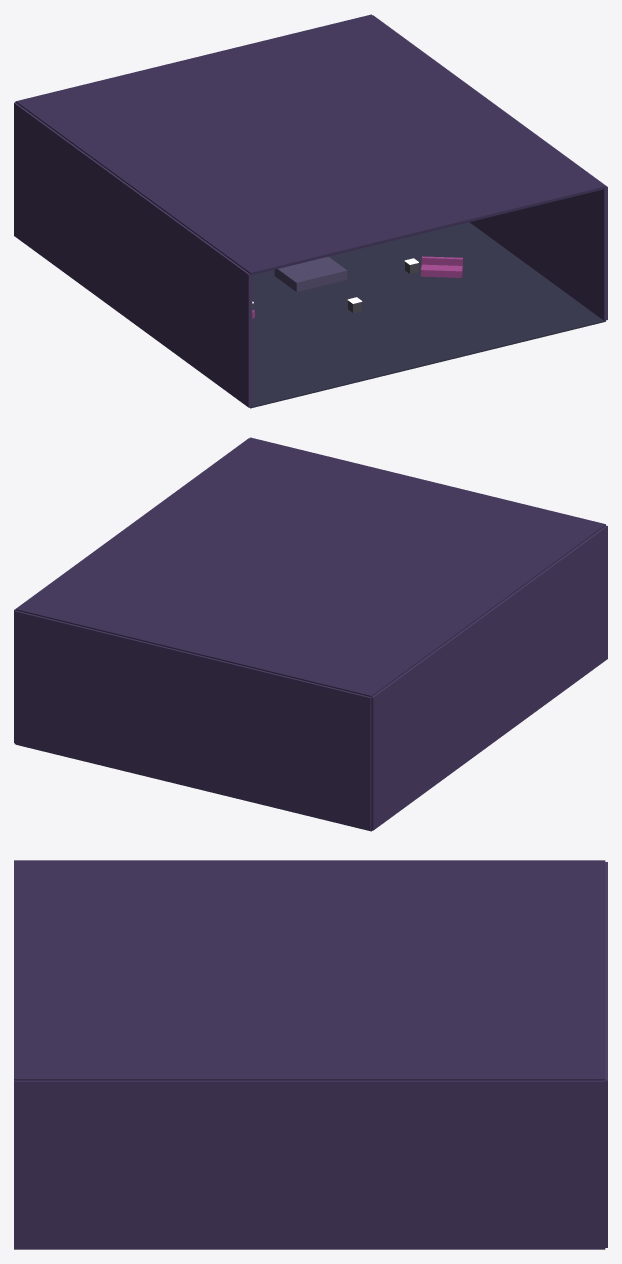
The model's file is skin-futuristic-lounge-v1-decorated-world.glb.
3 views of the same model, one above another, from view 1: azimuth 30°, elevation 25°; view 2: azimuth 150°, elevation 25°; view 3: azimuth 270°, elevation 25° (orthographic). The views are drawn at different scales.
Parts seen in each view (by area): view 1: Ceiling, Floor, Wall_L, Wall_R, Center_Riser, Booth_Base.001; view 2: Ceiling, Wall_Back, Wall_L; view 3: Ceiling, Wall_R, Wall_Back, Floor.
Boxes of the visible parts, bbox=[...] form: Ceiling: bbox=[16, 14, 605, 275]; Floor: bbox=[249, 222, 605, 408]; Wall_L: bbox=[14, 102, 252, 407]; Wall_R: bbox=[373, 15, 607, 320]; Center_Riser: bbox=[274, 256, 347, 291]; Booth_Base.001: bbox=[421, 264, 462, 277]; Ceiling: bbox=[16, 437, 605, 697]; Wall_Back: bbox=[14, 610, 371, 830]; Wall_L: bbox=[371, 525, 607, 830]; Ceiling: bbox=[14, 860, 605, 1080]; Wall_R: bbox=[14, 1080, 605, 1249]; Wall_Back: bbox=[605, 862, 607, 1247]; Floor: bbox=[14, 1249, 604, 1249].
Bounding box in the file's own units: 28.3 × 10.2 × 32.15.
